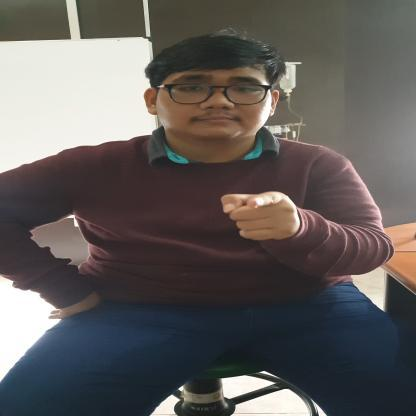Kamu: (219, 190, 308, 245)
